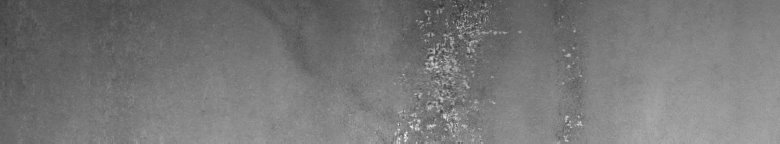hc: (394, 4, 584, 136)
